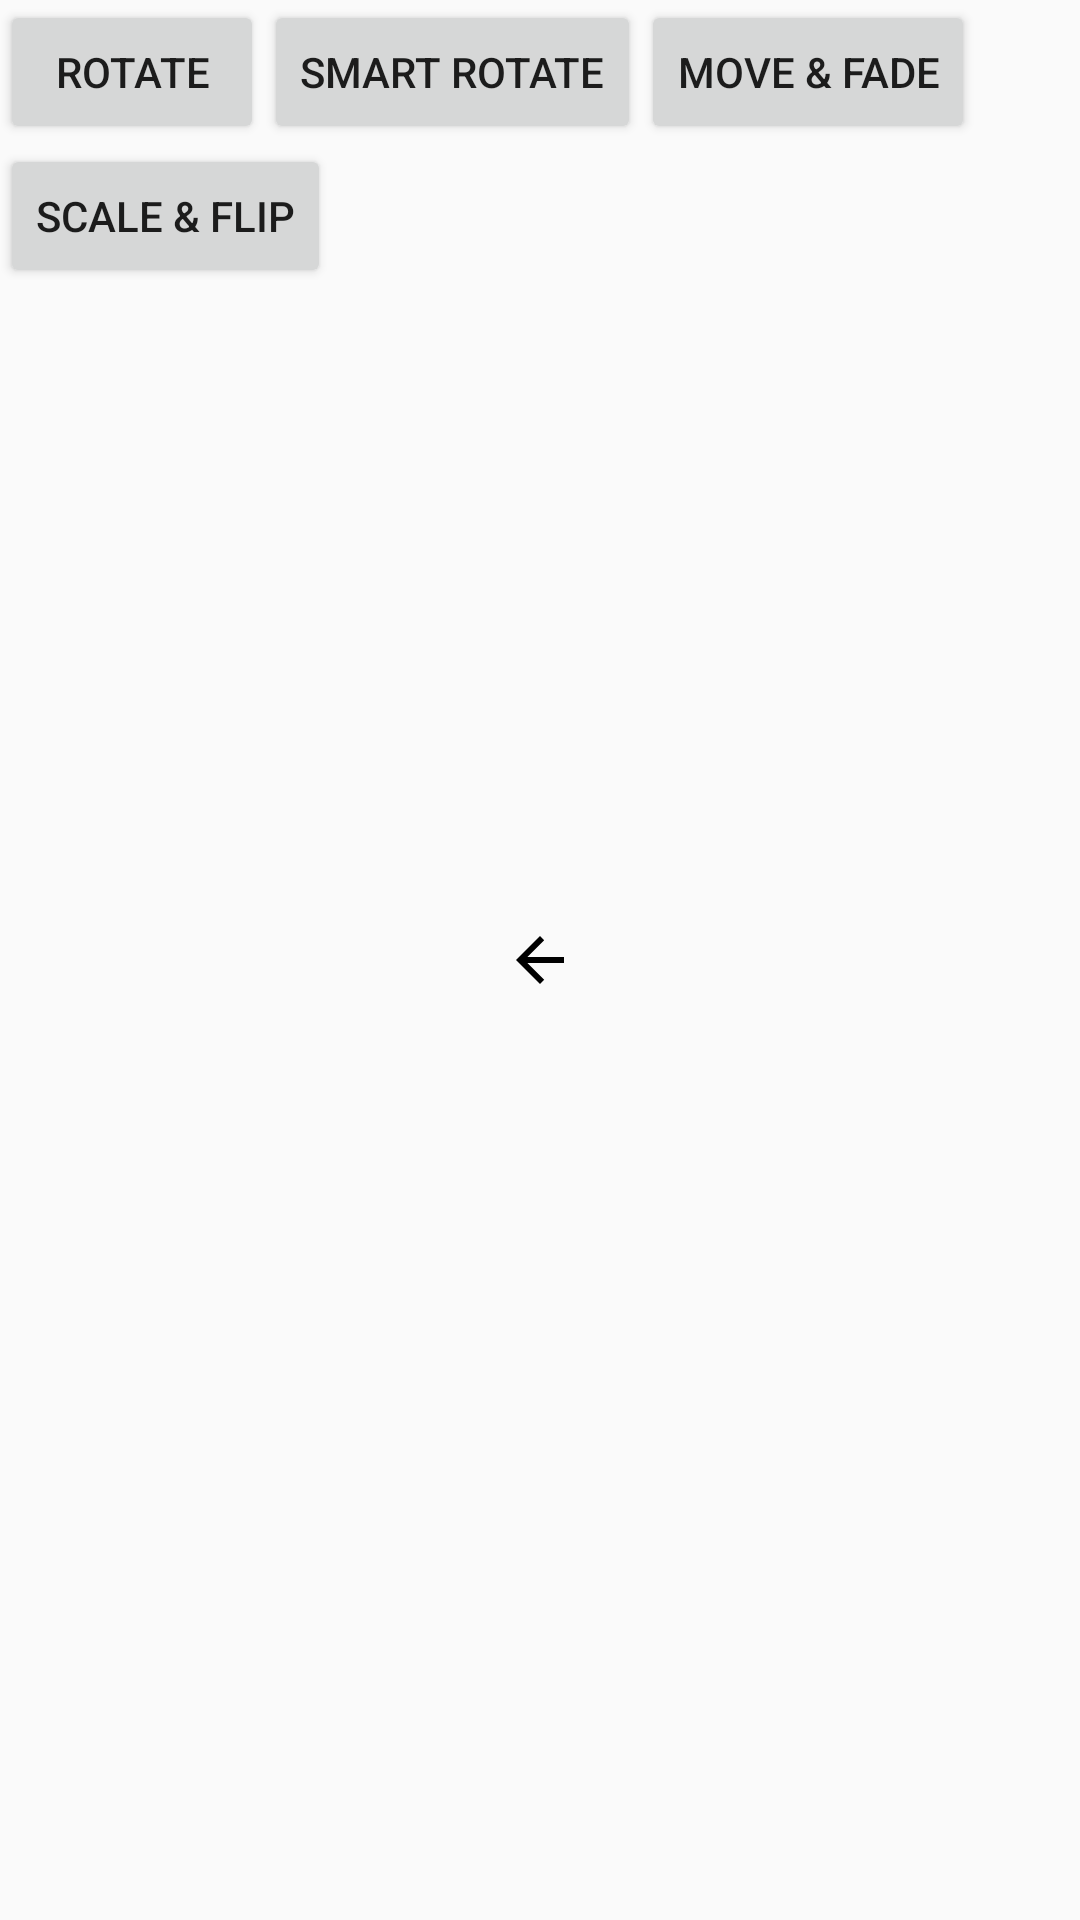

Icons on this 1080*1920 Android screen, each with the point to tap as point (x, y):
ab back: point (540, 960)
